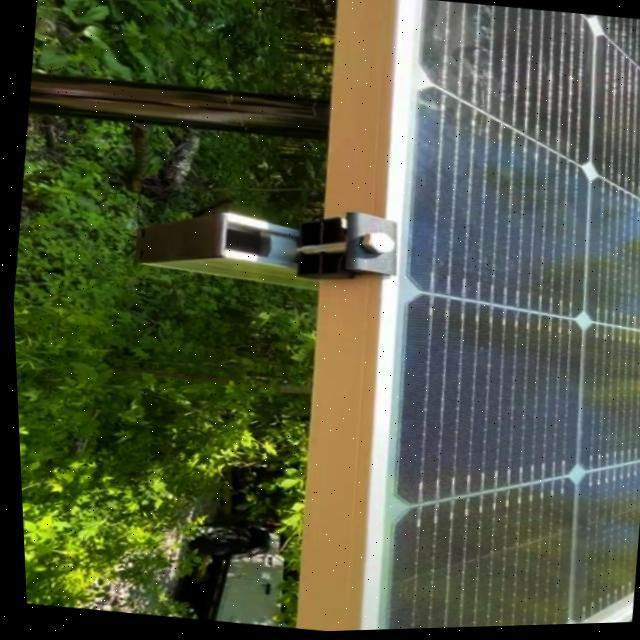Normal Solar Panel: (347, 0, 640, 632)
